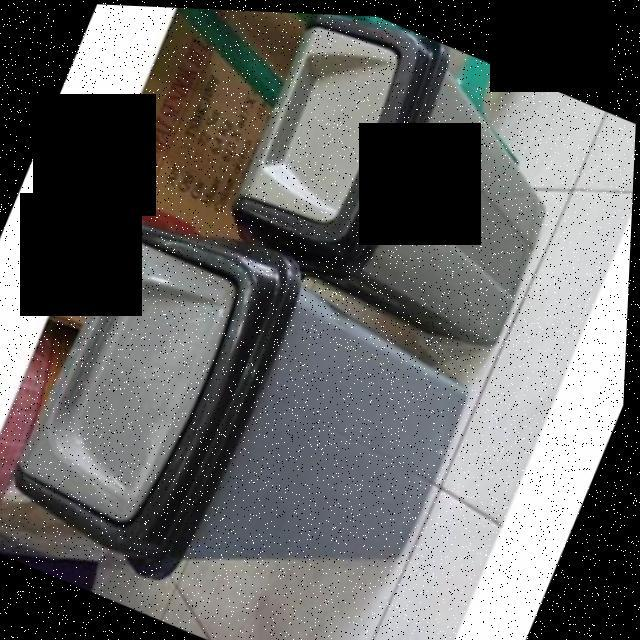bin: (0, 181, 509, 640), (203, 7, 605, 342)
